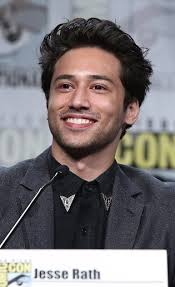middle_eastern_male: (42, 39, 133, 154)
